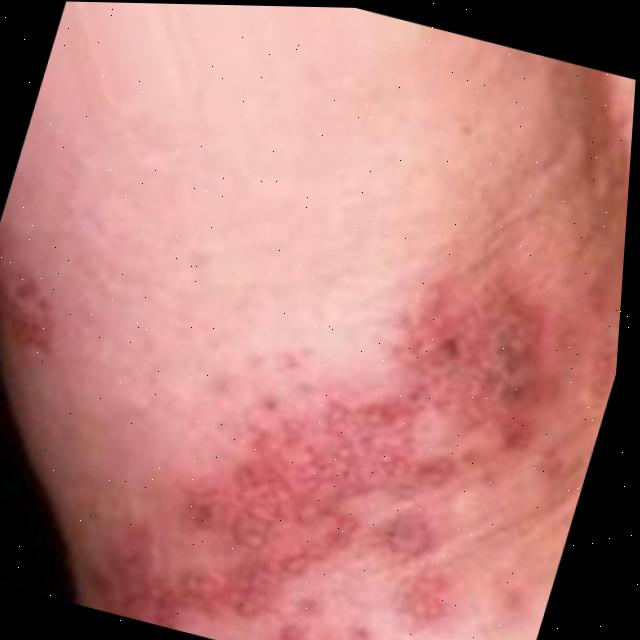Shingles: (62, 200, 621, 640), (0, 229, 82, 354)
